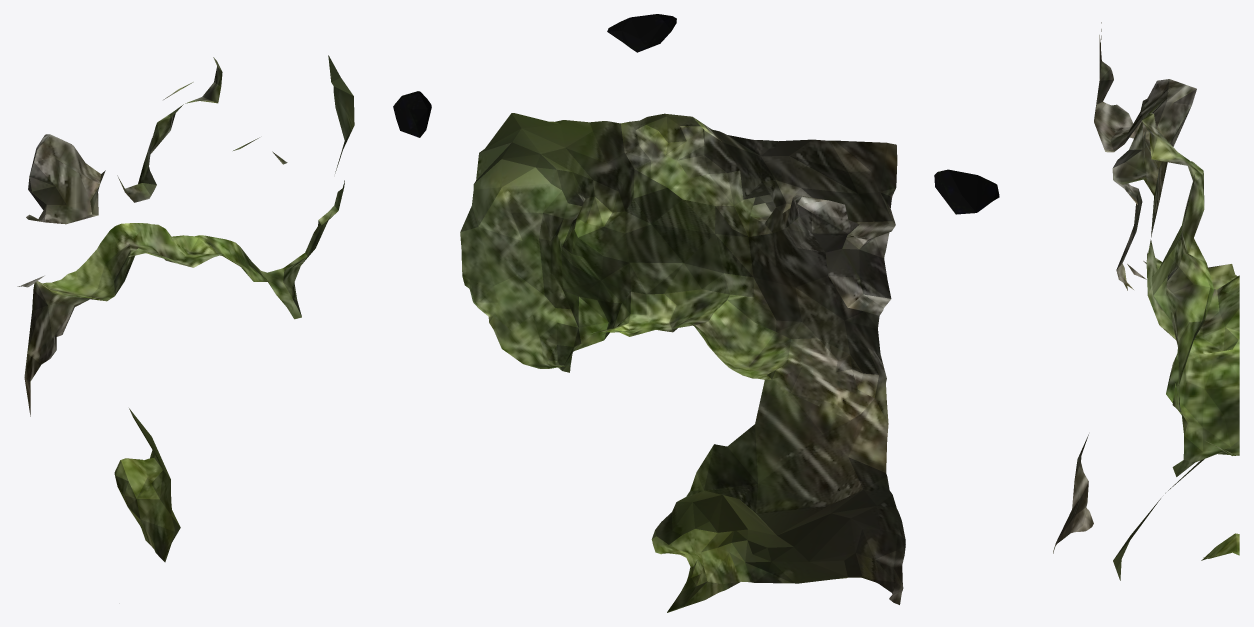
3 views of the same model, side by side, from view 1: azimuth 30°, elevation 25°; view 2: azimuth 150°, elevation 25°; view 3: azimuth 270°, elevation 25° (orthographic). The views are drawn at different scales.
Bounding box in the file's own units: 2.49 × 2.95 × 1.6.
2 materials, 2 textured.
